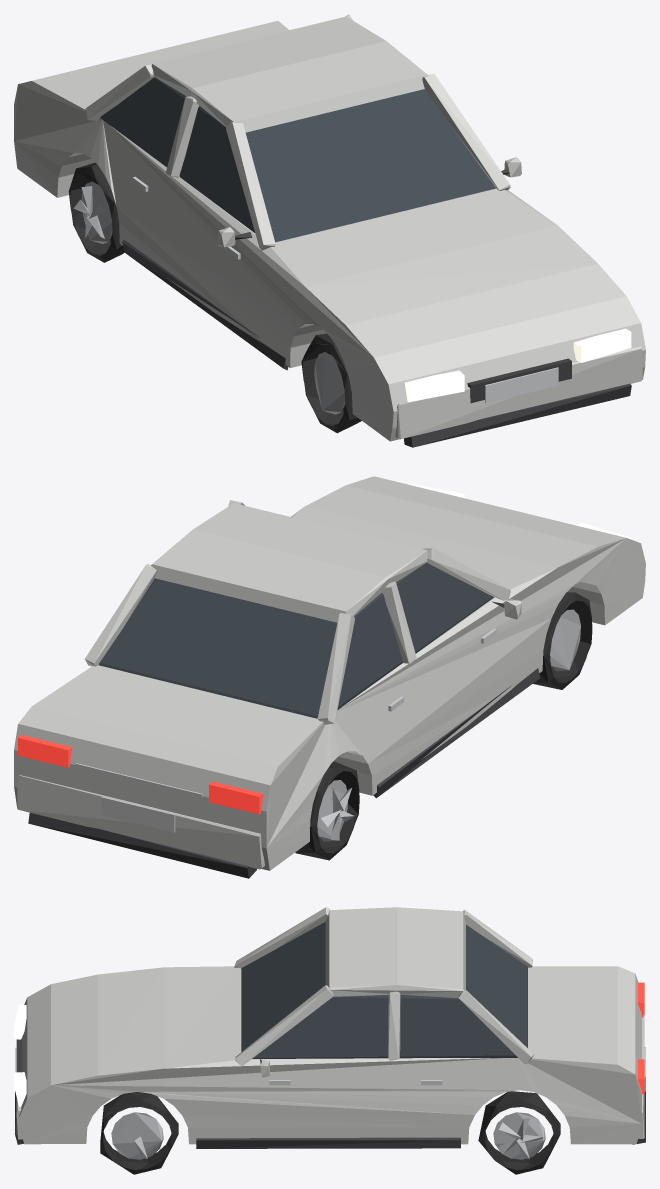
Rendered from car-white-lod1.glb.
3 views of the same model, one above another, from view 1: azimuth 30°, elevation 25°; view 2: azimuth 150°, elevation 25°; view 3: azimuth 270°, elevation 25° (orthographic). The views are drawn at different scales.
Bounding box in the file's own units: 2.14 × 1.49 × 4.75.
